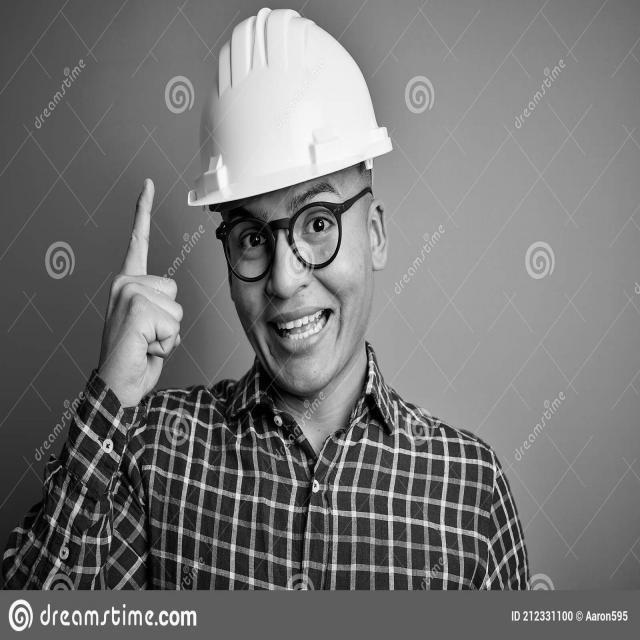safety_helmet: (186, 9, 393, 209)
